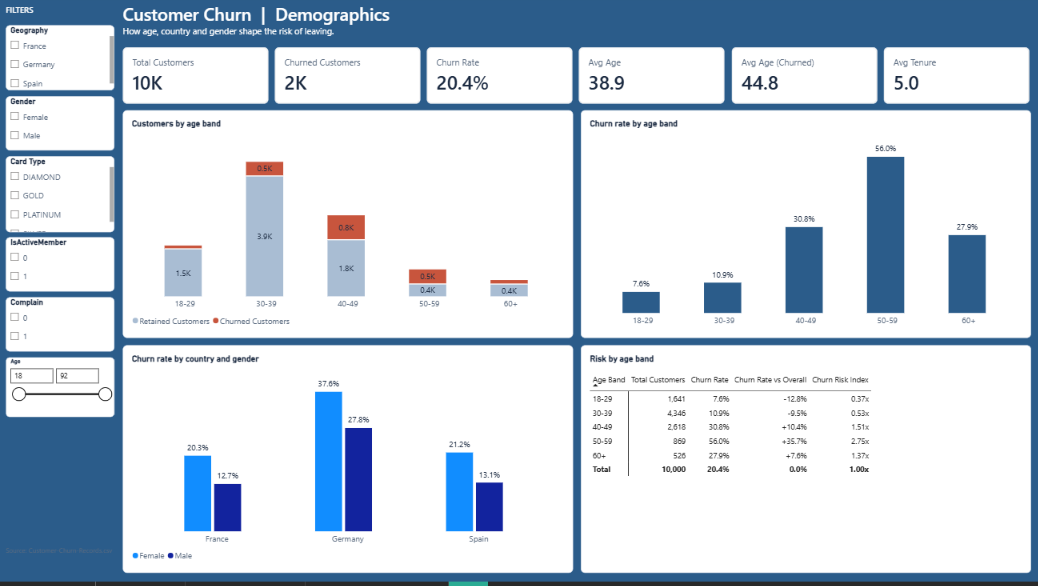

Layout of this report page (visuals, bound fields, positions):
{"tool":"powerbi","page":{"name":"Demographics","canvas":[1920,1080],"ordinal":1},"visuals":[{"type":"slicer","fields":{"Values":["Customer-Churn-Records.Geography"]},"box":[16,16,200,120],"z":13000},{"type":"slicer","fields":{"Values":["Customer-Churn-Records.Gender"]},"box":[16,146,200,100],"z":14000},{"type":"slicer","fields":{"Values":["Customer-Churn-Records.Card Type"]},"box":[16,256,200,140],"z":15000},{"type":"slicer","fields":{"Values":["Customer-Churn-Records.IsActiveMember"]},"box":[16,406,200,100],"z":16000},{"type":"slicer","fields":{"Values":["Customer-Churn-Records.Complain"]},"box":[16,516,200,100],"z":17000},{"type":"slicer","fields":{"Values":["Customer-Churn-Records.Age"]},"box":[16,626,200,110],"z":18000},{"type":"columnChart","title":"Customers by age band (retained vs churned)","fields":{"Category":["Customer-Churn-Records.Age Band"],"Y":["_Measures.Retained Customers","_Measures.Churned Customers"]},"box":[217.2,16.6,686,516],"z":19000},{"type":"columnChart","title":"Churn rate by age band","fields":{"Category":["Customer-Churn-Records.Age Band"],"Y":["_Measures.Churn Rate"]},"box":[918.4,16.6,686,516],"z":20000},{"type":"clusteredColumnChart","title":"Churn rate by country and gender","fields":{"Category":["Customer-Churn-Records.Geography"],"Series":["Customer-Churn-Records.Gender"],"Y":["_Measures.Churn Rate"]},"box":[217.2,548.5,686,516],"z":21000},{"type":"pivotTable","title":"Risk by age band","fields":{"Rows":["Customer-Churn-Records.Age Band"],"Values":["_Measures.Total Customers","_Measures.Churn Rate","_Measures.Churn Rate vs Overall","_Measures.Churn Risk Index"]},"box":[916.6,548.5,686,516],"z":22000},{"type":"cardVisual","fields":{"Data":["_Measures.Total Customers","_Measures.Churned Customers","_Measures.Churn Rate","_Measures.Avg Balance","_Measures.Avg Credit Score","_Measures.Complaint Rate"]},"box":[1603.1,0,316.6,1080.4],"z":22001}]}

Visuals, with their boxes in screenshot pixels (x1, y1, x2, y2), scaled from the page's 1920x1080 canvas onto the 1038x586 screenshot:
slicer - Customer-Churn-Records.Geography: 9:9:117:74
slicer - Customer-Churn-Records.Gender: 9:79:117:133
slicer - Customer-Churn-Records.Card Type: 9:139:117:215
slicer - Customer-Churn-Records.IsActiveMember: 9:220:117:275
slicer - Customer-Churn-Records.Complain: 9:280:117:334
slicer - Customer-Churn-Records.Age: 9:340:117:399
"Customers by age band (retained vs churned)" columnChart: 117:9:488:289
"Churn rate by age band" columnChart: 497:9:867:289
"Churn rate by country and gender" clusteredColumnChart: 117:298:488:578
"Risk by age band" pivotTable: 496:298:866:578
cardVisual - _Measures.Total Customers x _Measures.Churned Customers: 867:0:1037:585
